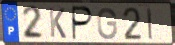2: (20, 5, 45, 42), (121, 6, 143, 42)
G: (96, 6, 119, 41)
I: (146, 7, 153, 41)
K: (48, 7, 68, 40)
P: (71, 5, 95, 41)
